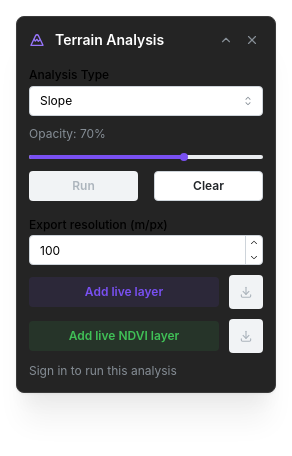
TerrainAnalysisPanel live layer action › adds the layer for the selected op without a session token
slope is the panel's default op
Click the button "Add live layer" at coordinates (124, 292), box left=29, top=277, right=219, bottom=307
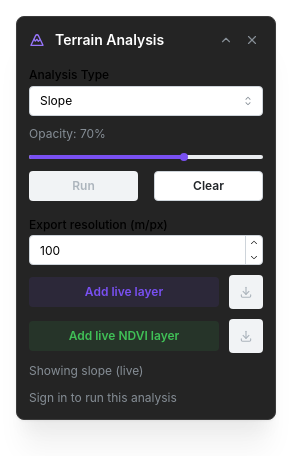
Result: the text with test id "terrain-live-status" shows "slope (live)" at left=29, top=363, right=143, bottom=378
